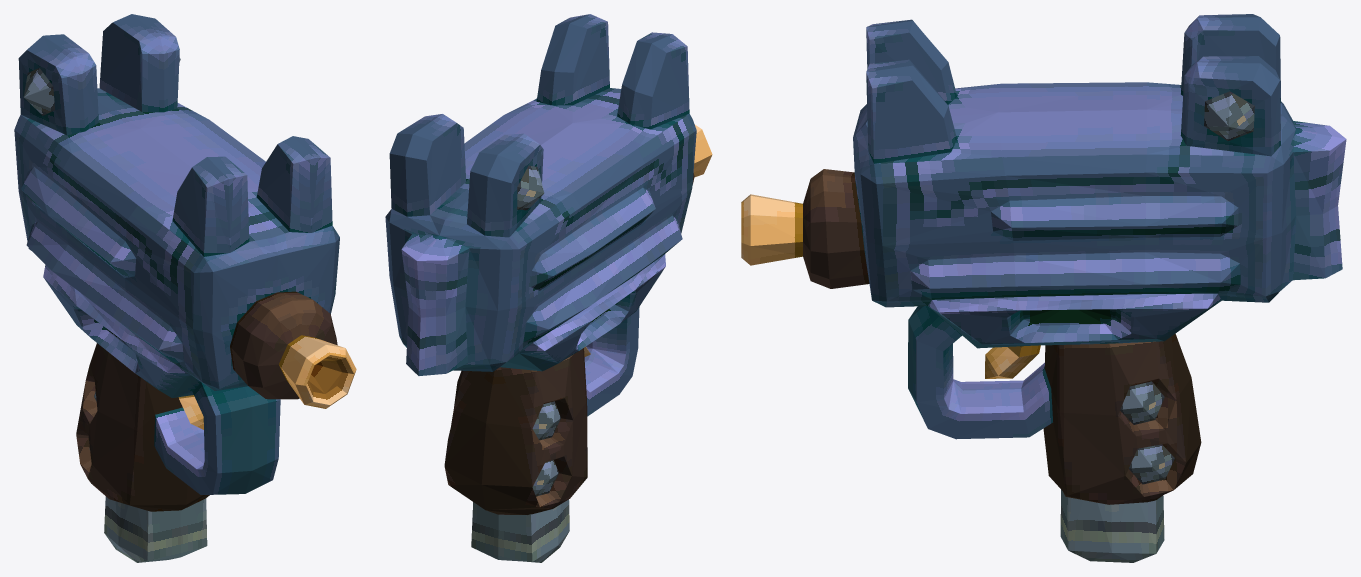
The model's file is Uzi.obj.
The picture shows the model from 3 angles, left to right: view 1: azimuth 30°, elevation 25°; view 2: azimuth 150°, elevation 25°; view 3: azimuth 270°, elevation 25°; orthographic projection. The views are drawn at different scales.
Visible parts, largest first — view 1: Inst3D_RefRep.242; view 2: Inst3D_RefRep.242; view 3: Inst3D_RefRep.242.
Boxes of the visible parts, box(x1,y1,x2,y2) form: Inst3D_RefRep.242: box(14, 14, 356, 562); Inst3D_RefRep.242: box(385, 14, 712, 562); Inst3D_RefRep.242: box(741, 14, 1346, 562).
Bounding box in the file's own units: 1.09 × 2.65 × 2.85.
